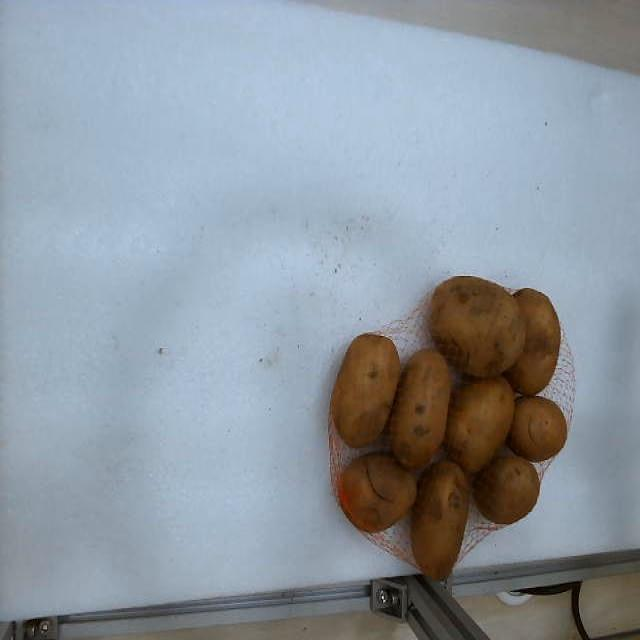potato: (430, 277, 526, 378), (332, 333, 400, 448), (389, 348, 450, 468), (411, 458, 470, 579), (445, 377, 515, 472), (338, 453, 416, 532), (504, 288, 561, 394), (472, 455, 540, 524), (509, 398, 568, 461), (504, 348, 557, 394)
